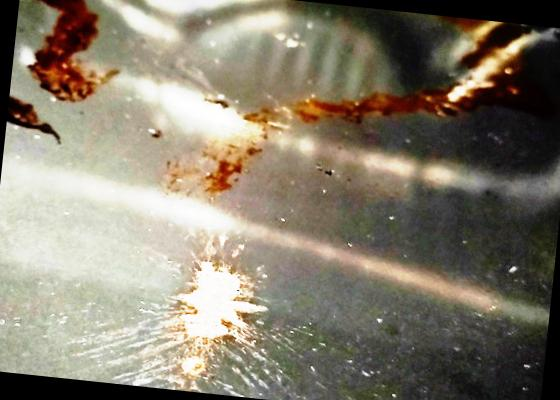Bird Poop: (205, 23, 556, 192), (78, 260, 306, 400), (28, 0, 117, 100), (166, 121, 266, 198), (7, 96, 58, 137), (203, 95, 229, 108), (150, 128, 160, 135)
